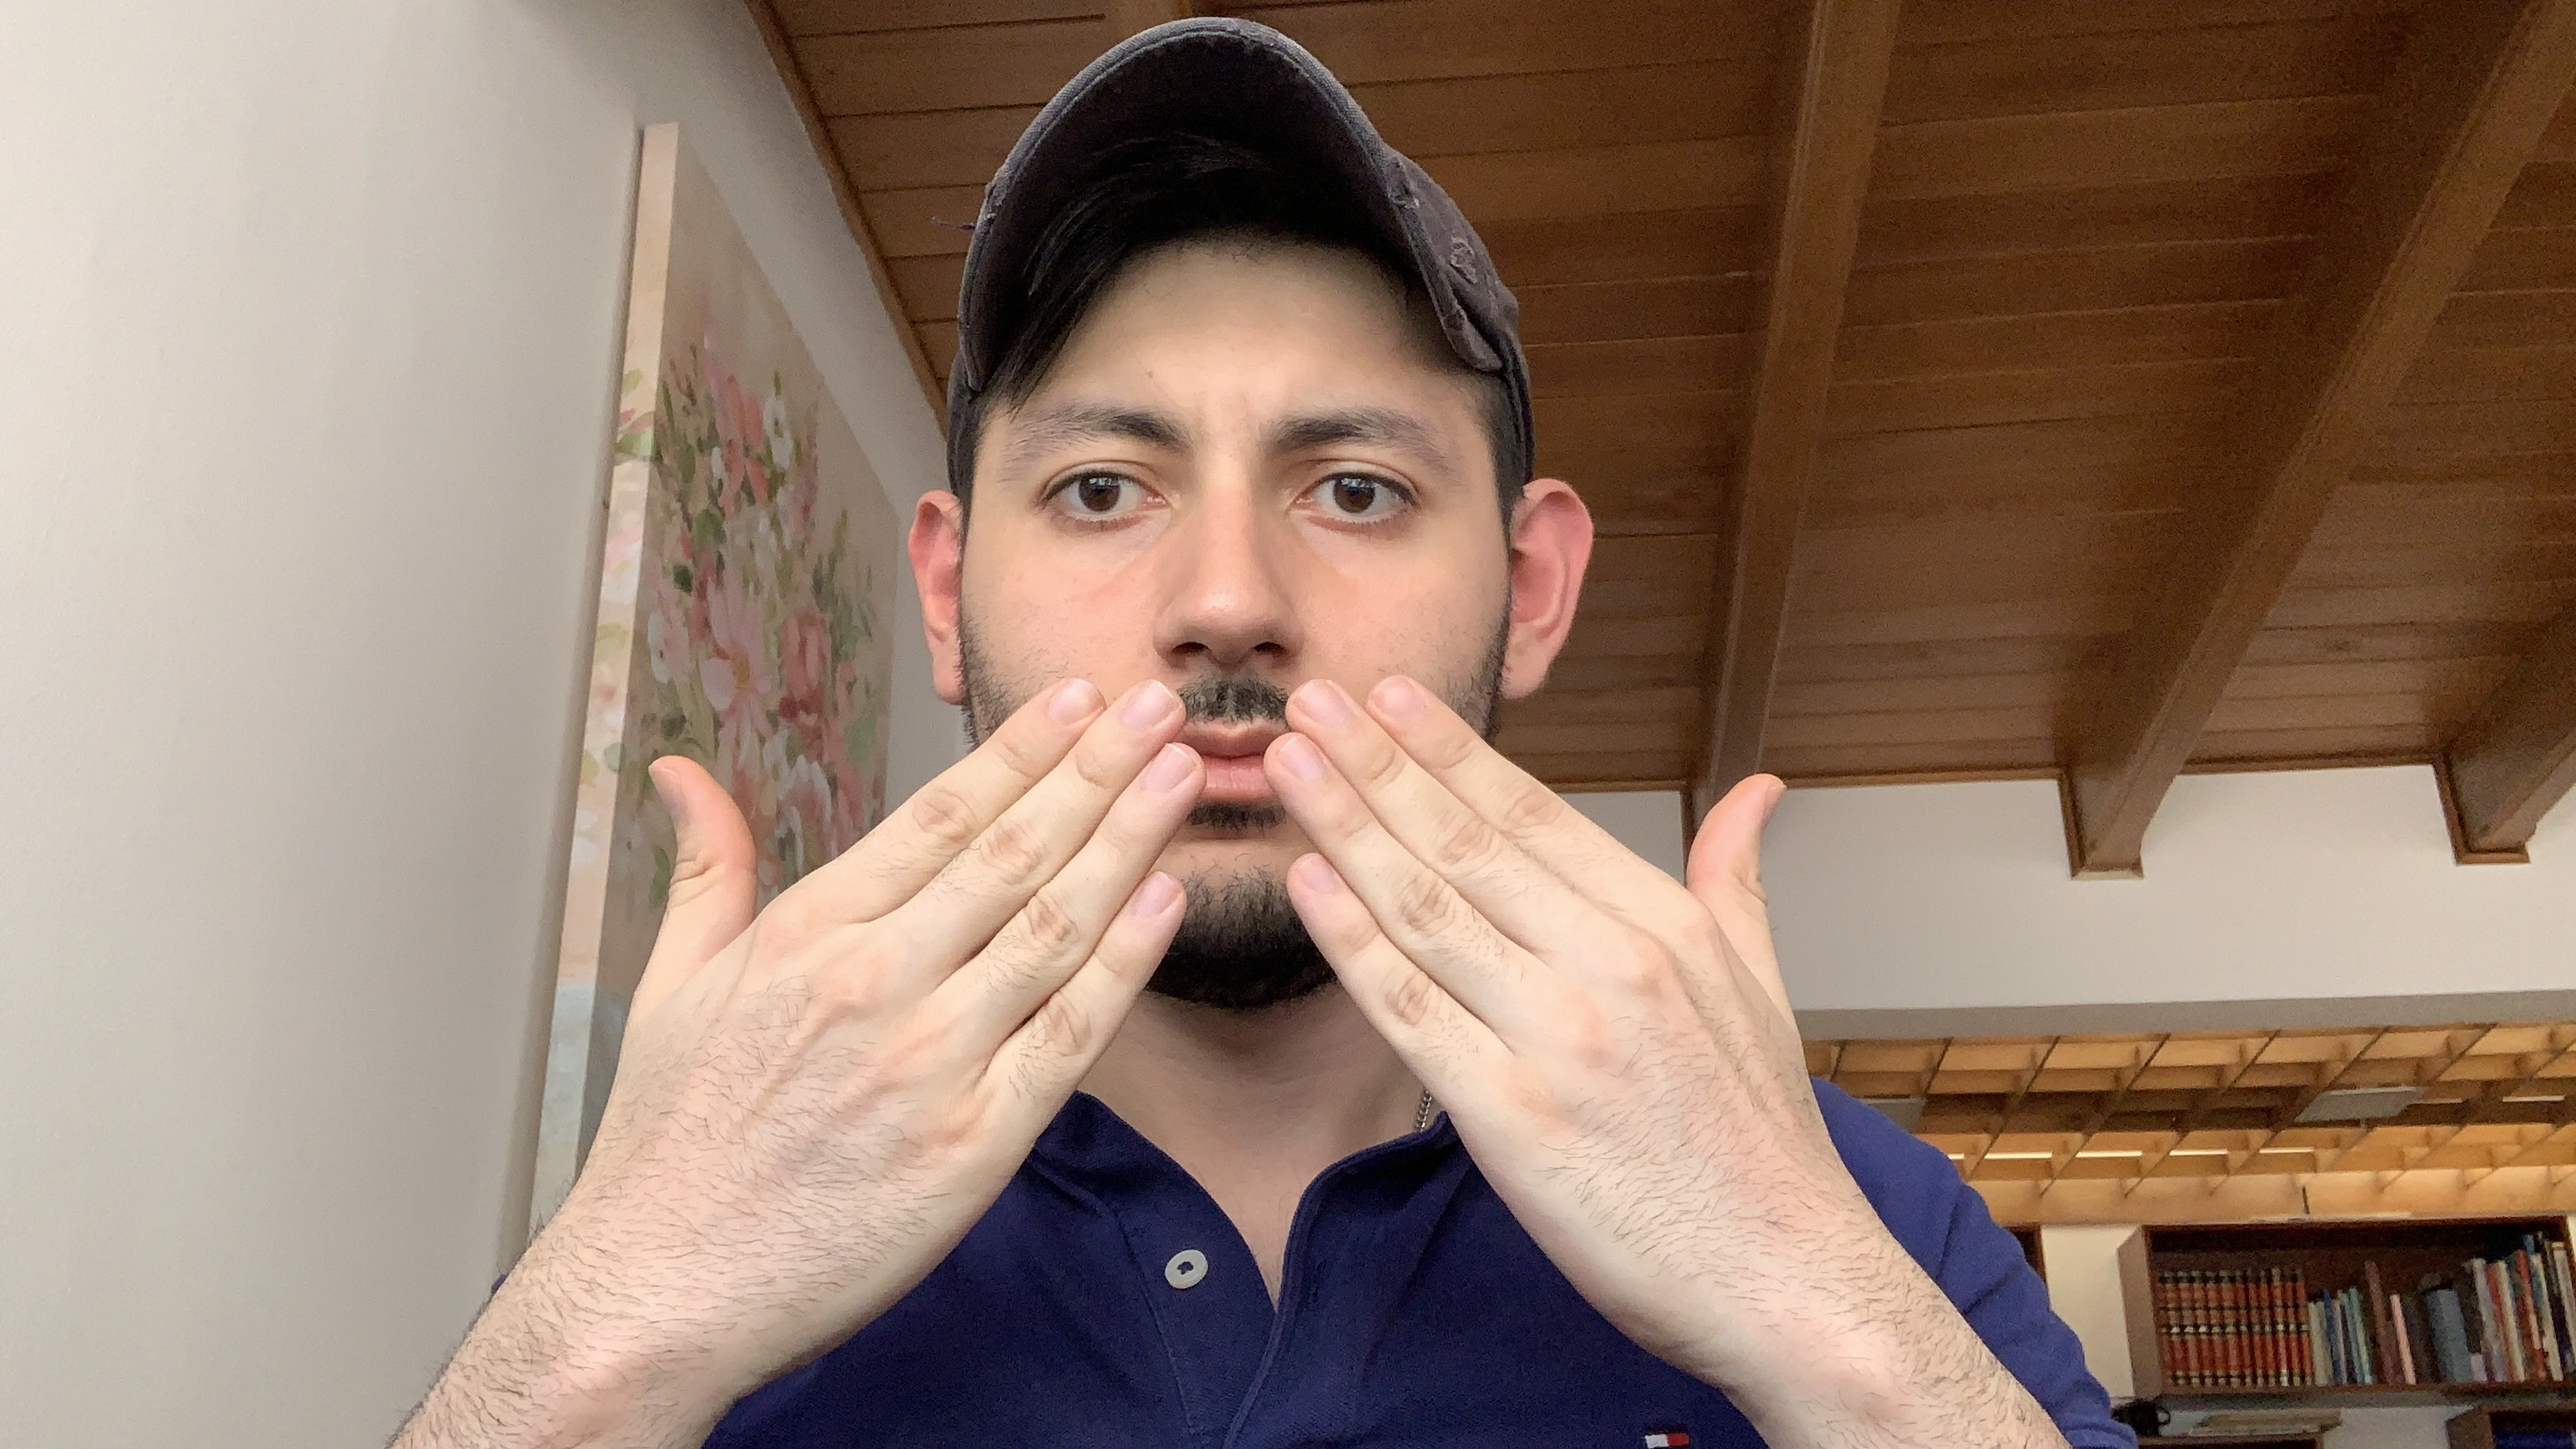Thank You: (584, 669, 1828, 1382)
